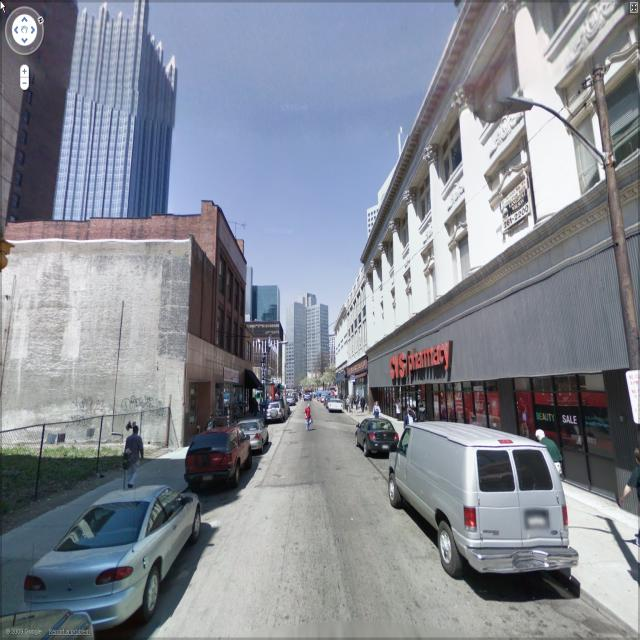b_1: (365, 7, 640, 404), (6, 216, 208, 453), (70, 1, 172, 207), (0, 4, 86, 237), (212, 206, 245, 436), (284, 284, 338, 404), (333, 273, 365, 412), (243, 264, 295, 344)
